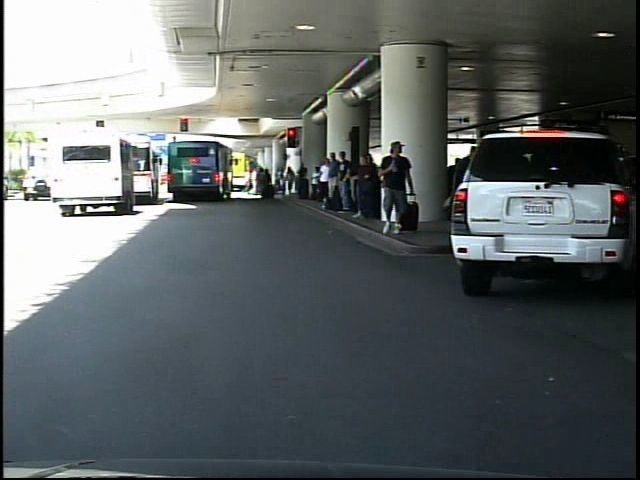person: (378, 140, 415, 239)
